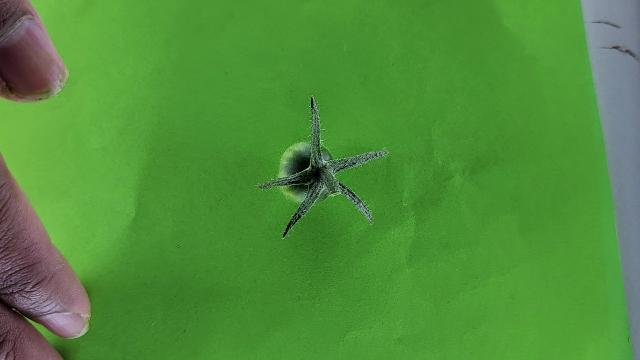Fruit Maturation: (276, 142, 334, 205)
